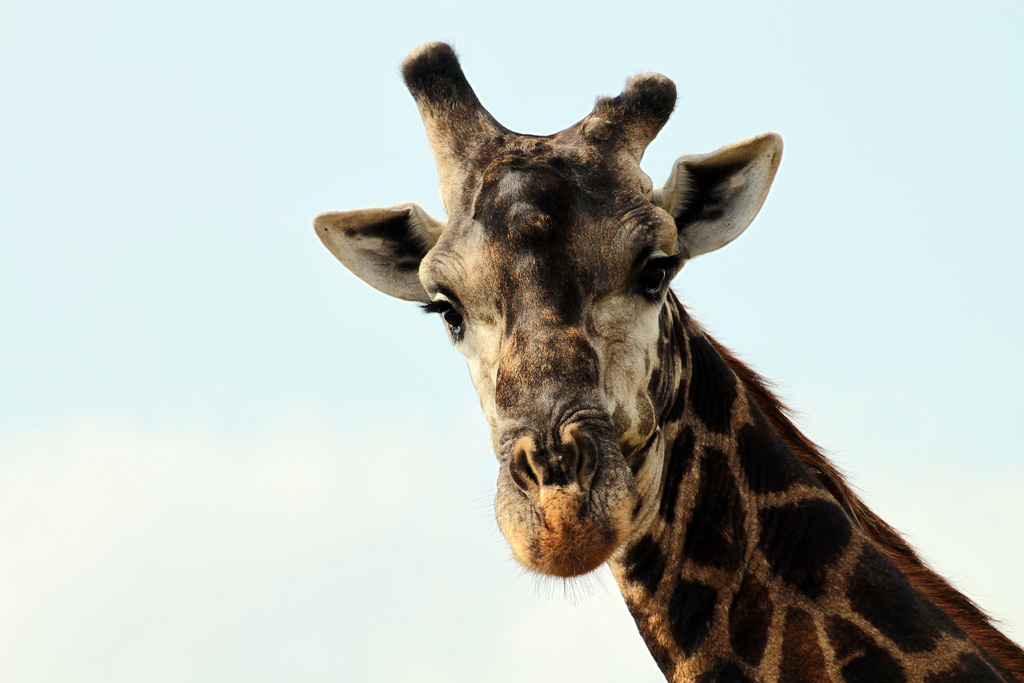giraffe: (330, 22, 993, 656)
